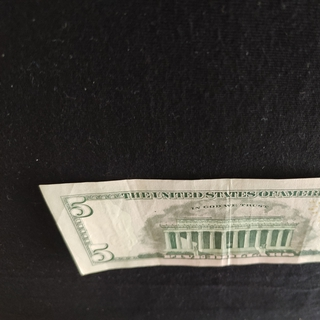5USDBack: (38, 175, 320, 276)
